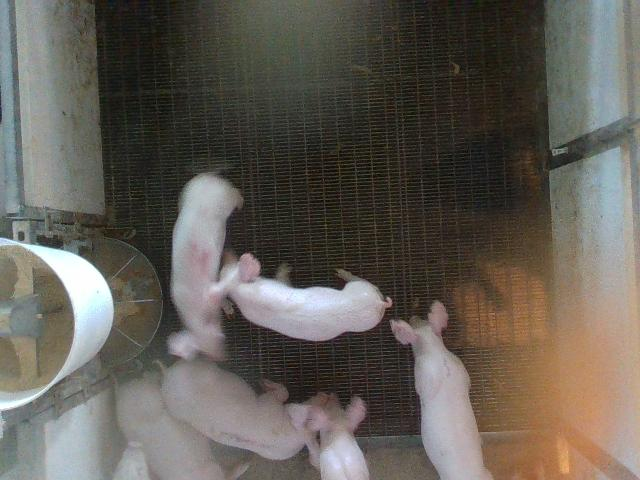pig-3: (162, 358, 328, 466)
pig-4: (168, 174, 242, 360)
